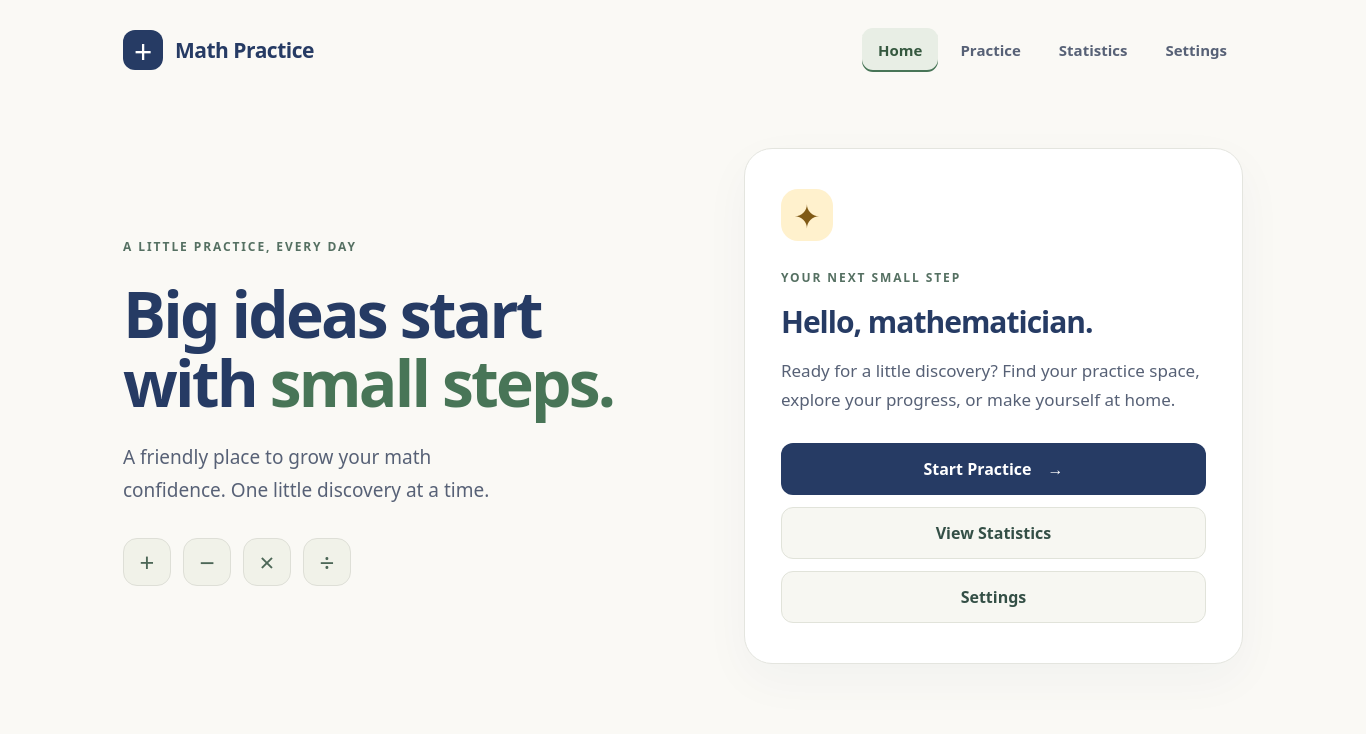
Phase 2 pages and navigation › opens the correct page from the home action View Statistics
Click the link "View Statistics" at (993, 533), box [781,507,1206,559]
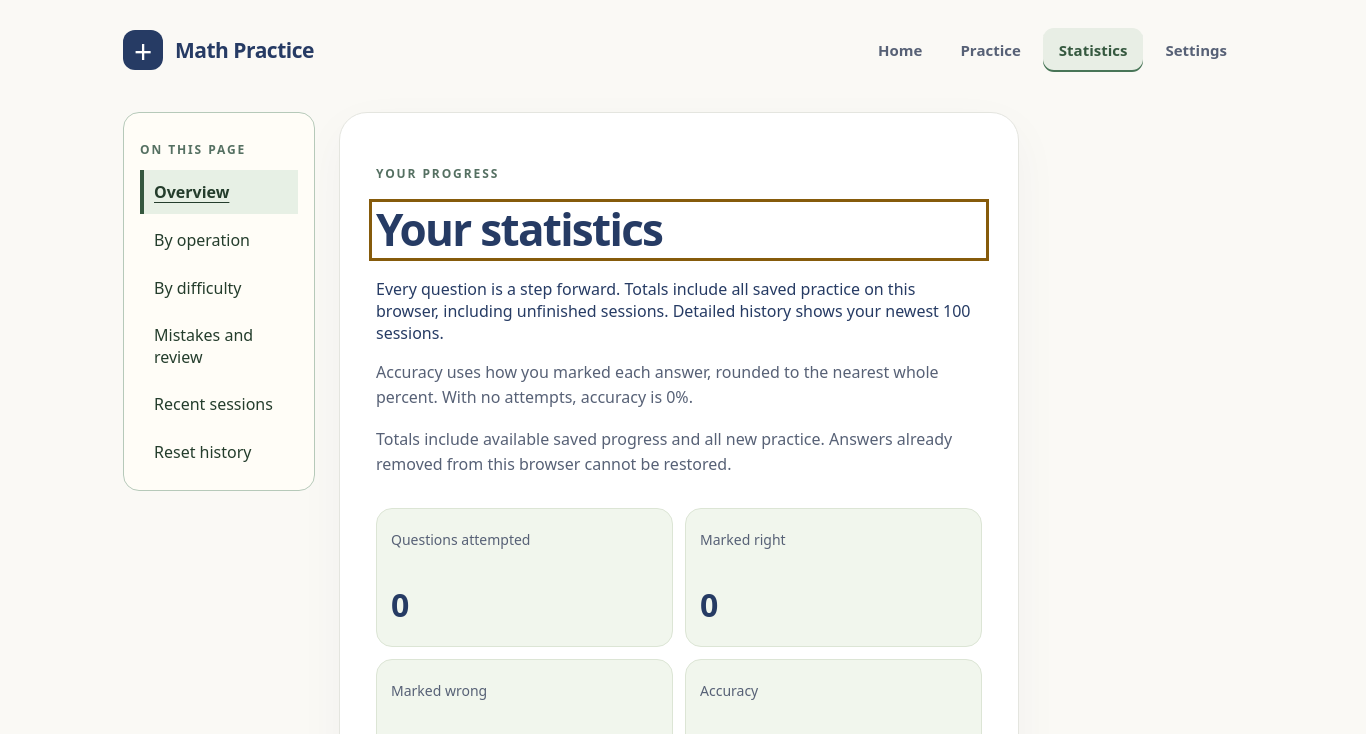
Check: the heading "Your statistics" is shown, box [376,199,662,259]
